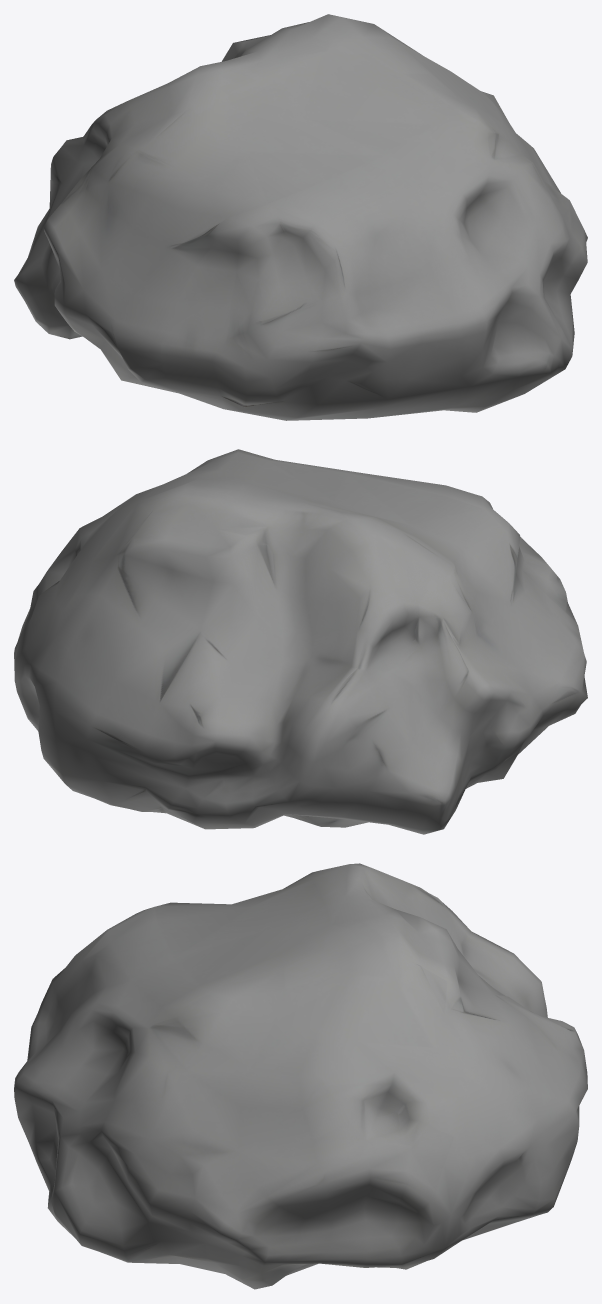
File: Low-poly rock.glb
3 renders of one model, top to bottom at view 1: azimuth 30°, elevation 25°; view 2: azimuth 150°, elevation 25°; view 3: azimuth 270°, elevation 25°, orthographic. The views are drawn at different scales.
Size of the model in its own units: 1.86 by 1.14 by 1.89.
1 material, 1 textured.
